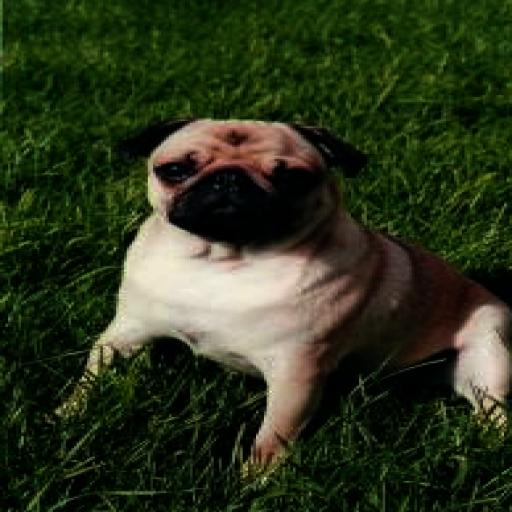dog_face: (120, 108, 363, 234)
